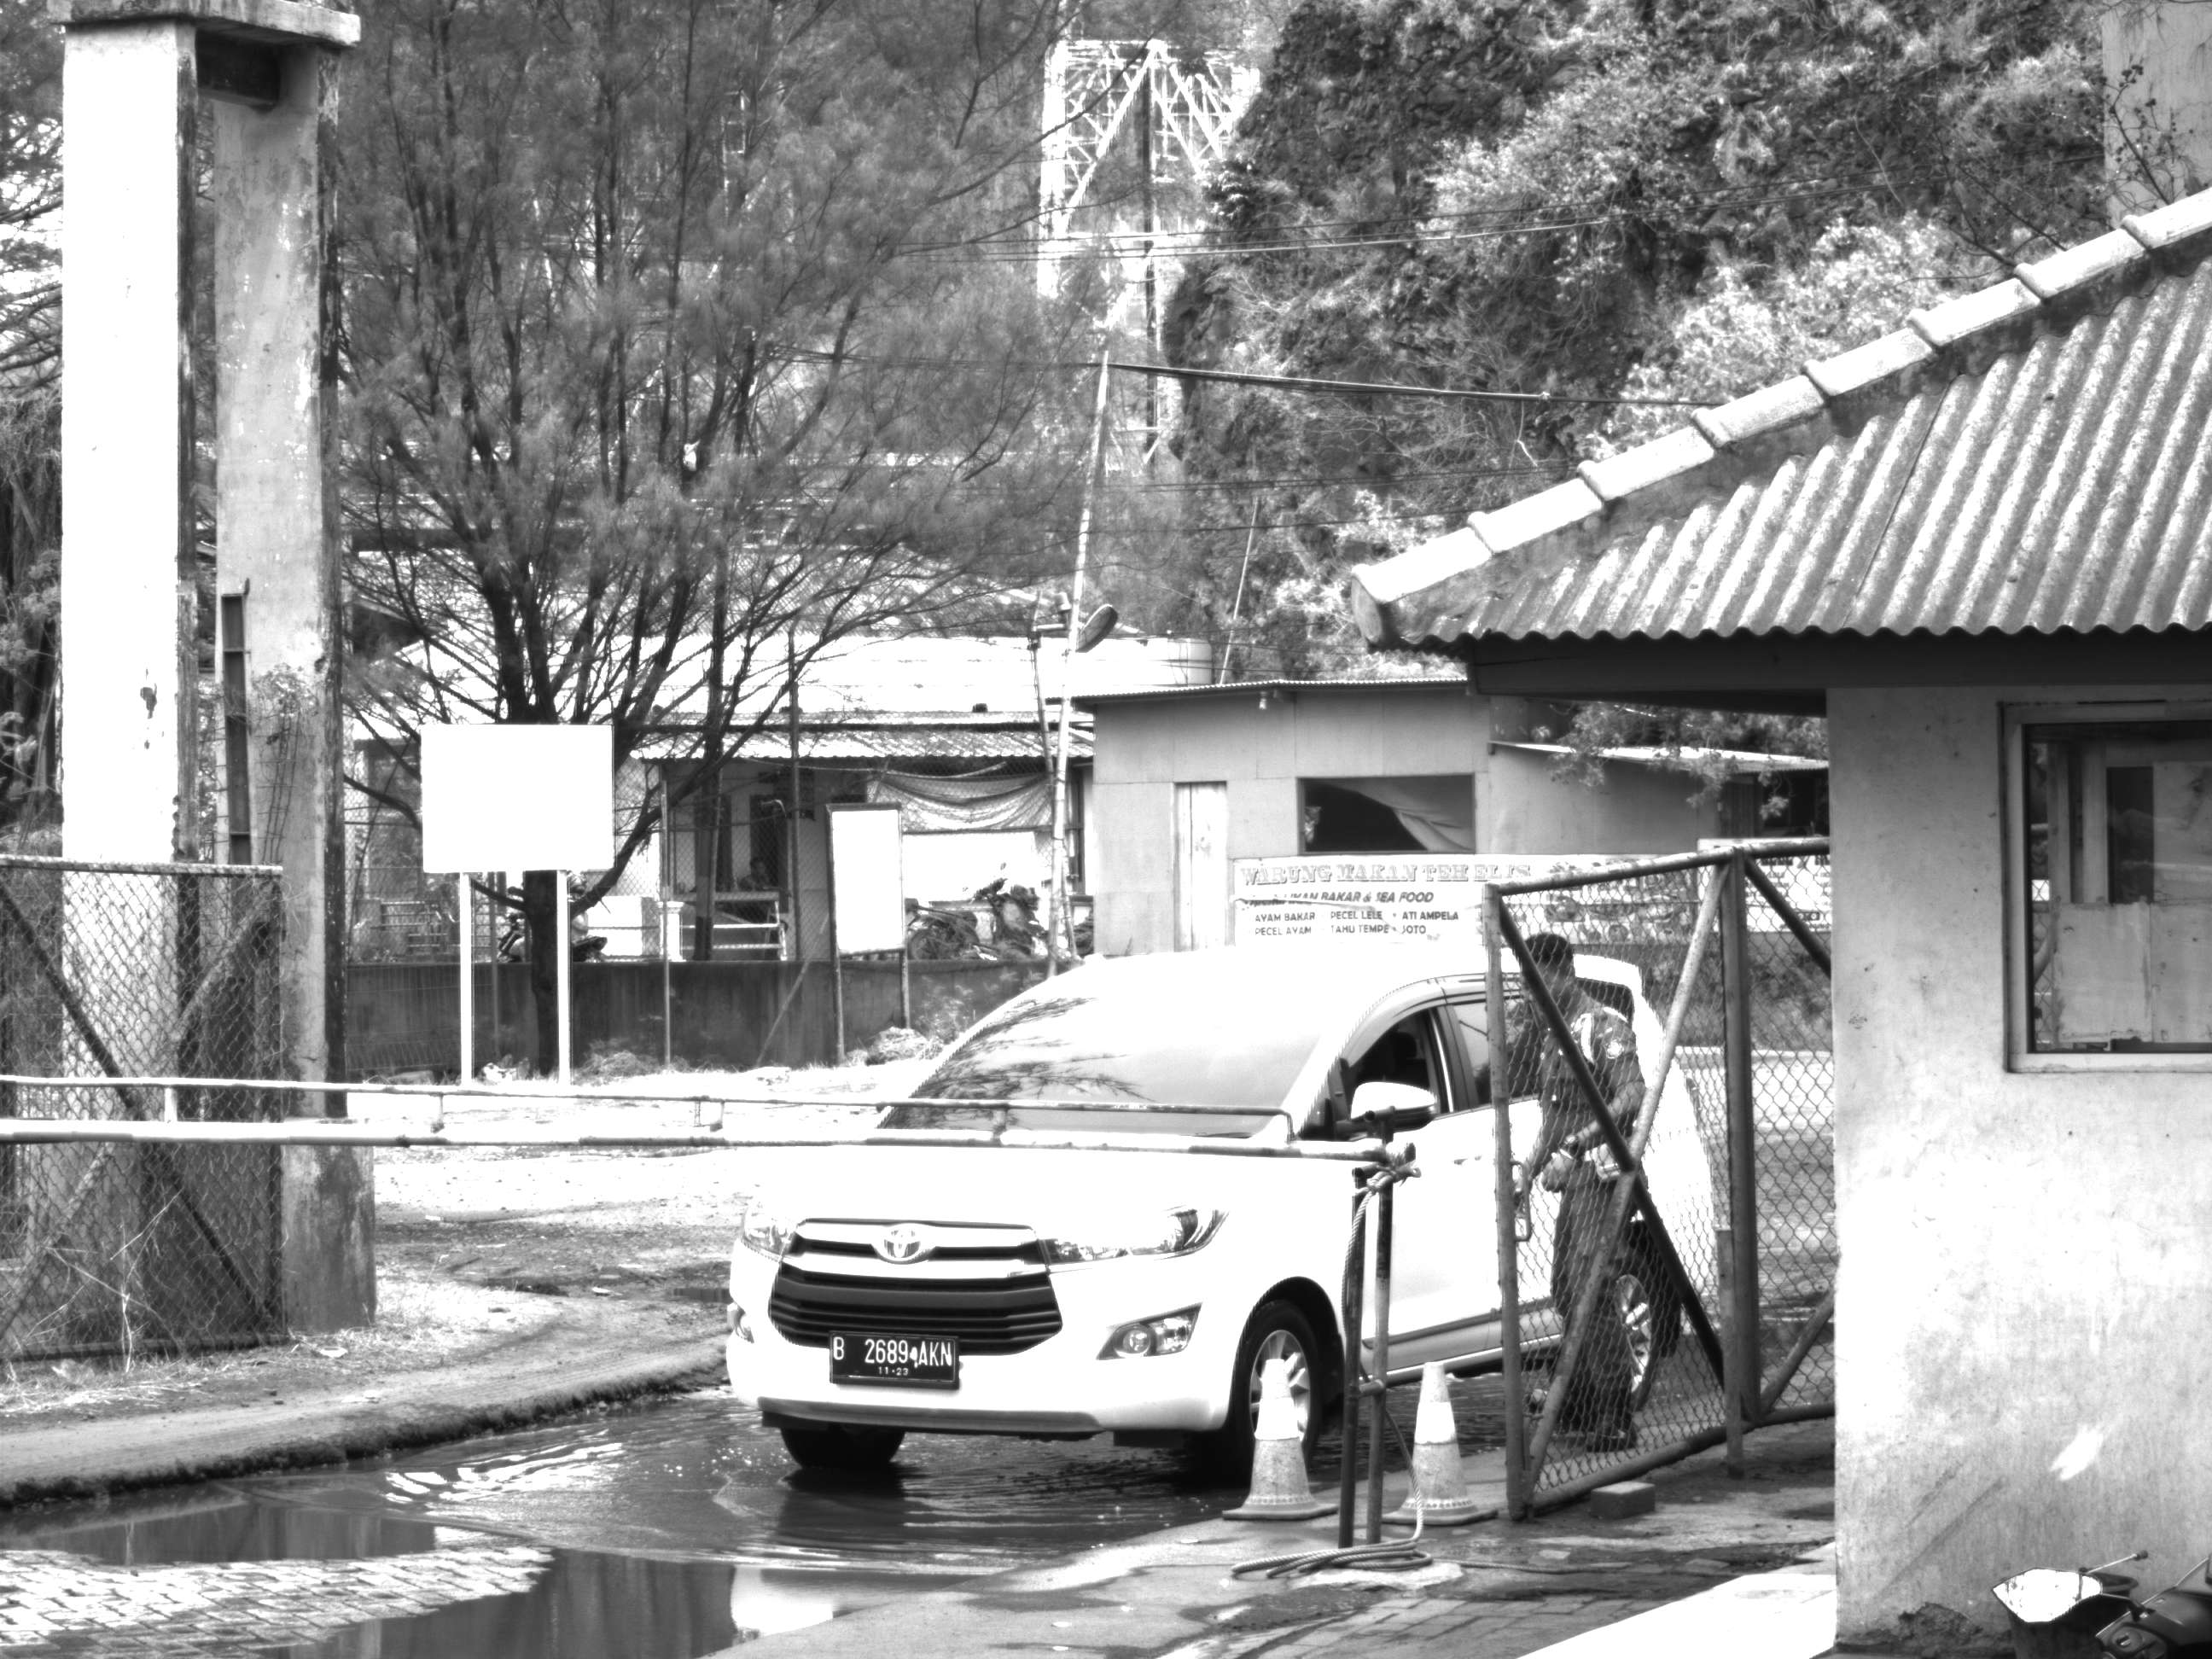day_small_front: (719, 940, 1380, 1476)
plate: (818, 1326, 963, 1400)
